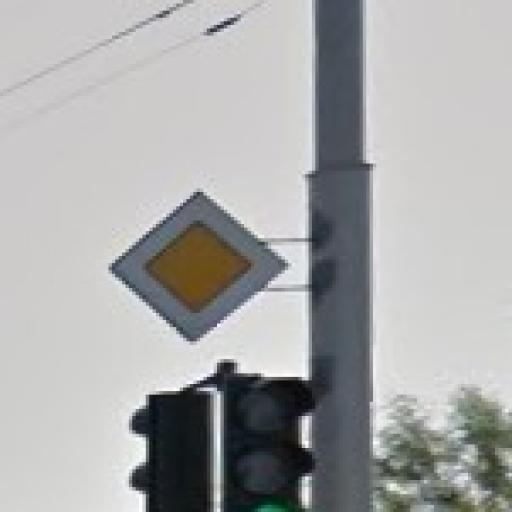traffic_sign: (110, 190, 289, 343)
